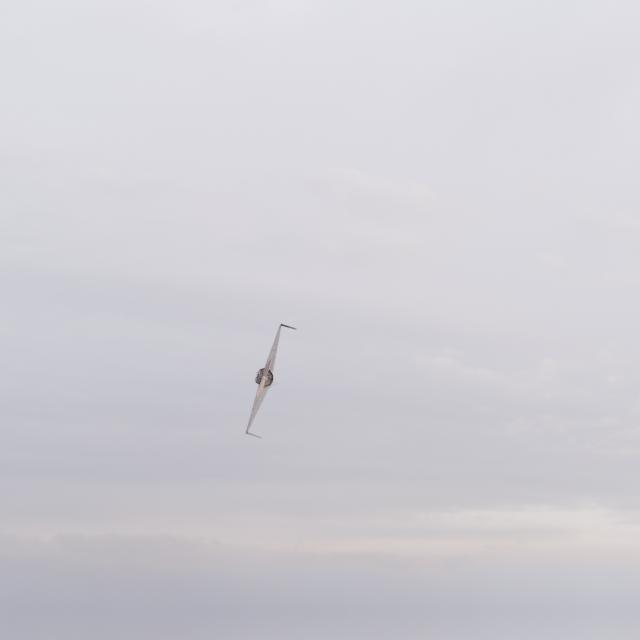Airaplan: (245, 323, 297, 439)
